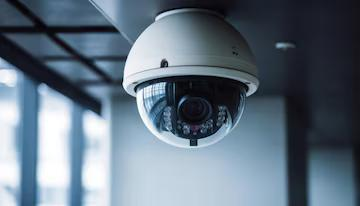360-Cam: (113, 7, 276, 166)
